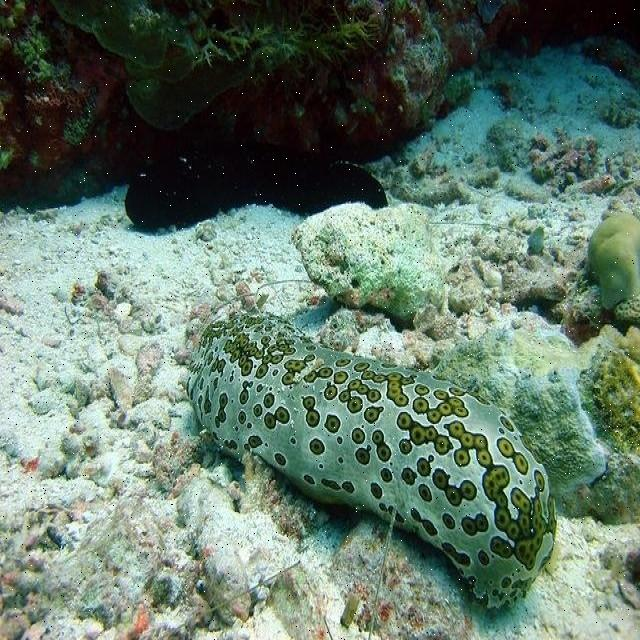fish: (196, 193, 459, 394), (217, 404, 316, 564)
reefs: (33, 229, 592, 638), (400, 58, 639, 380), (81, 1, 378, 230), (372, 2, 582, 50)
